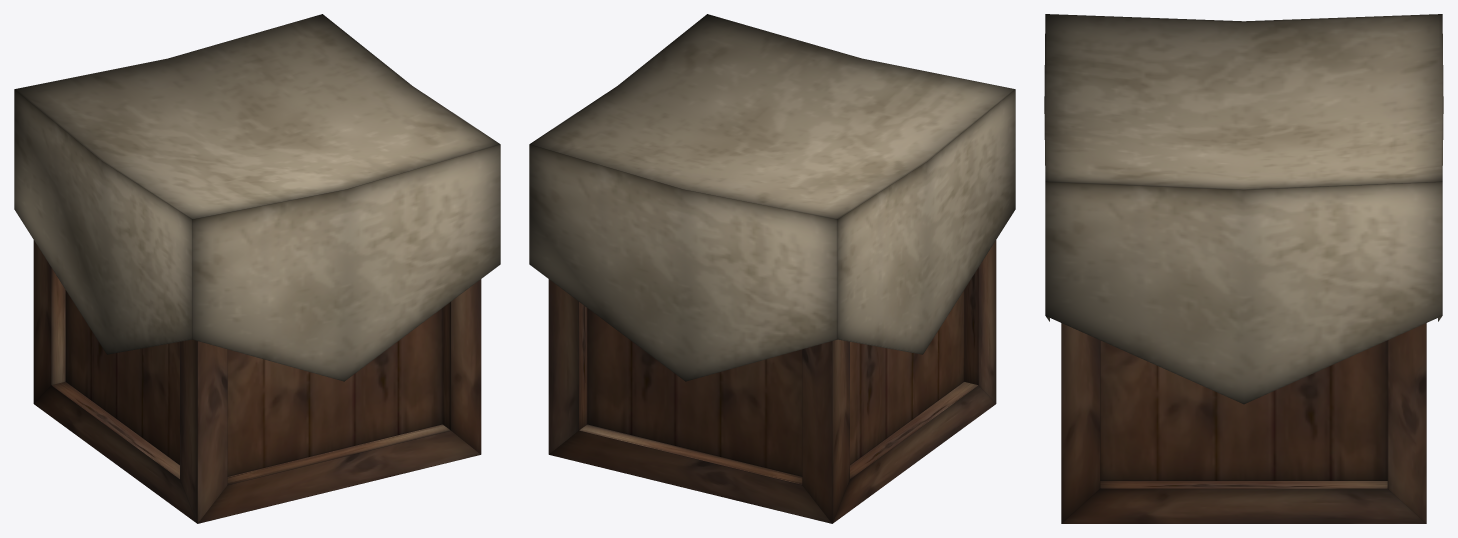
The model's file is Crate2.fbx.
3 renders of one model, left to right at view 1: azimuth 30°, elevation 25°; view 2: azimuth 150°, elevation 25°; view 3: azimuth 270°, elevation 25°, orthographic. The views are drawn at different scales.
Parts seen in each view (by area): view 1: Cube.001; view 2: Cube.001; view 3: Cube.001.
Part boxes in pixels (x1,y1,x2,y2): Cube.001: [14, 14, 500, 523]; Cube.001: [529, 14, 1015, 523]; Cube.001: [1044, 14, 1443, 523].
Bounding box in the file's own units: 218 × 211 × 218.
